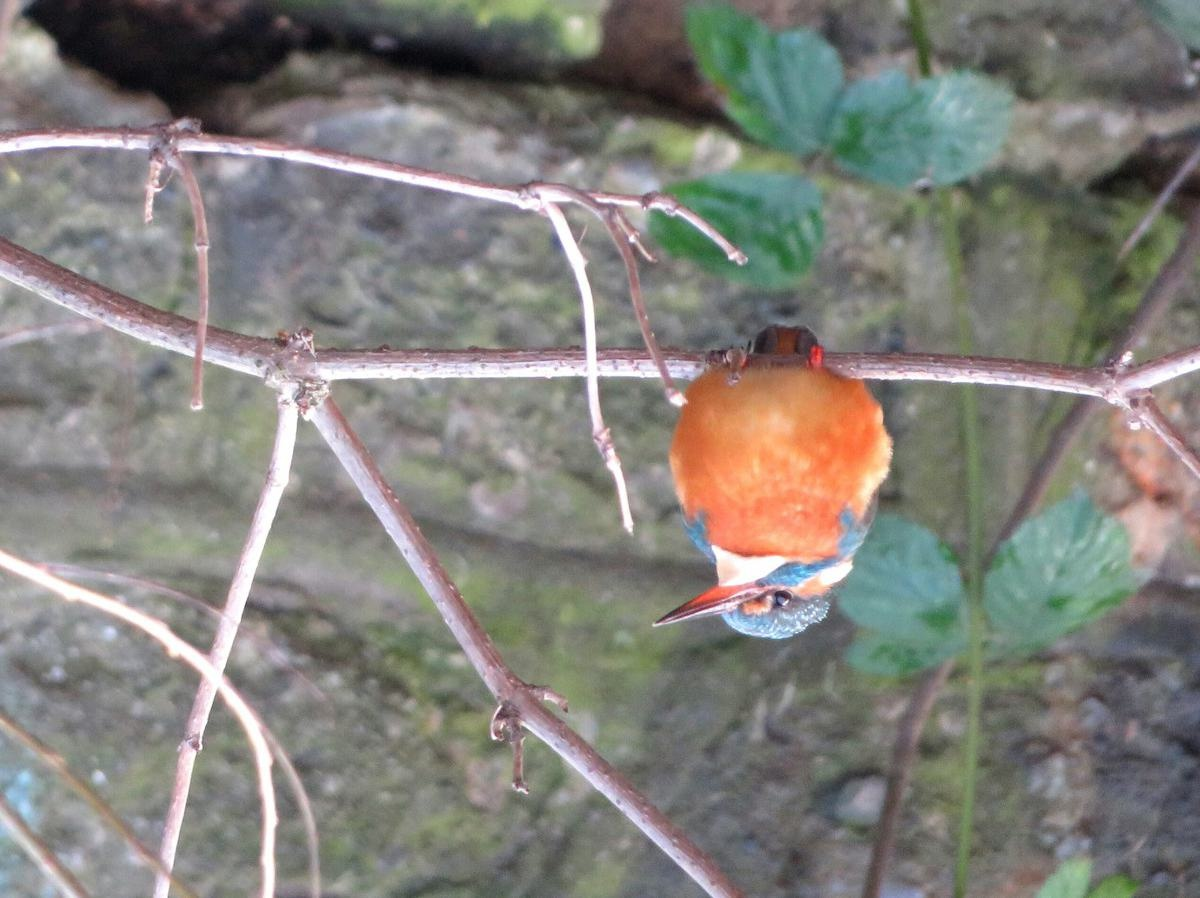kingfisher: (631, 335, 901, 710)
